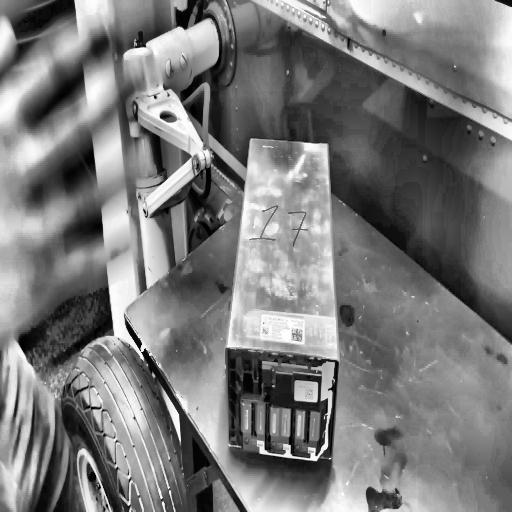battery_module: (226, 138, 340, 461)
